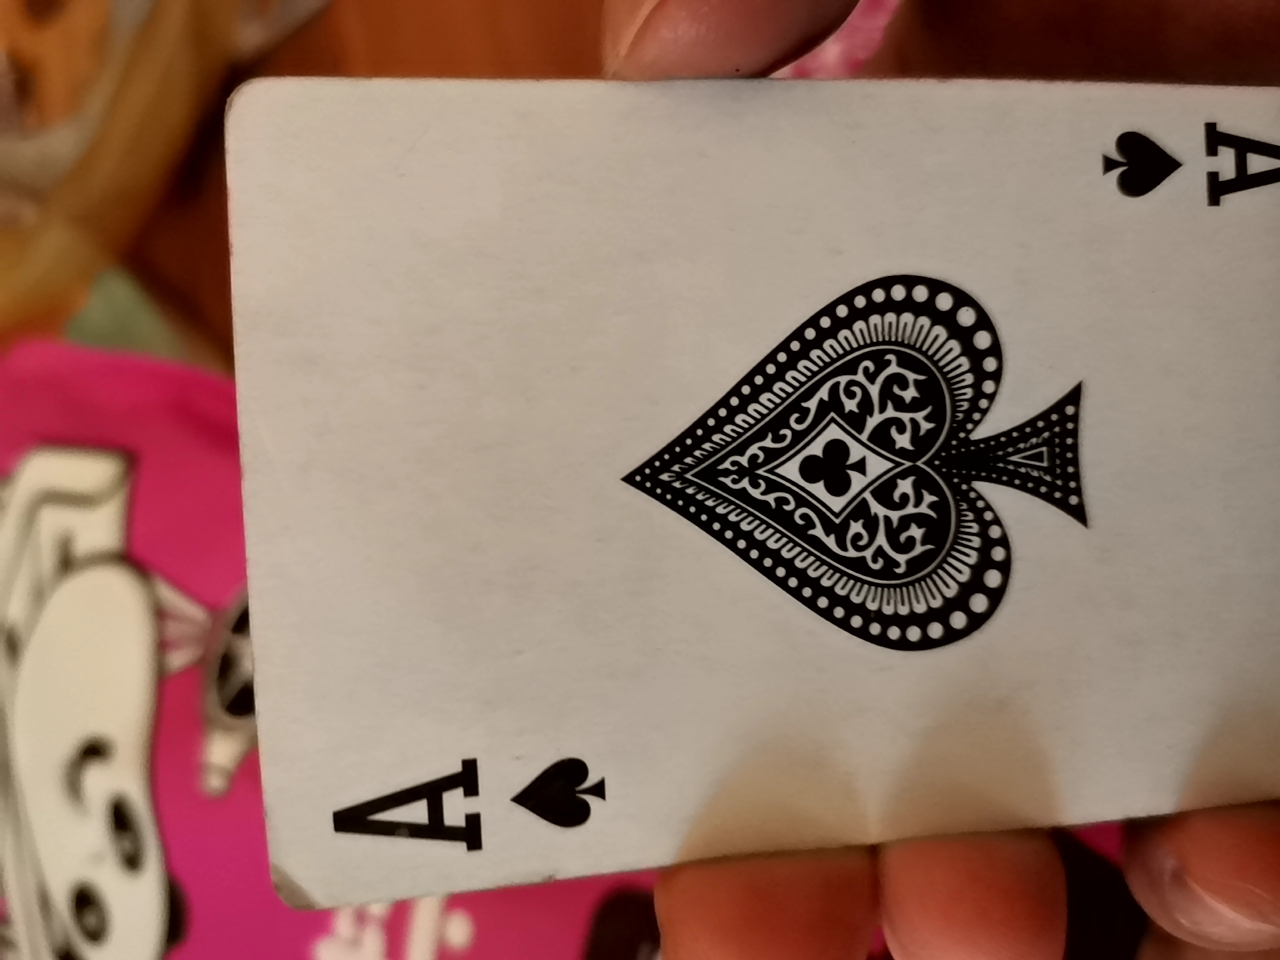ht a: (241, 74, 1272, 937)
